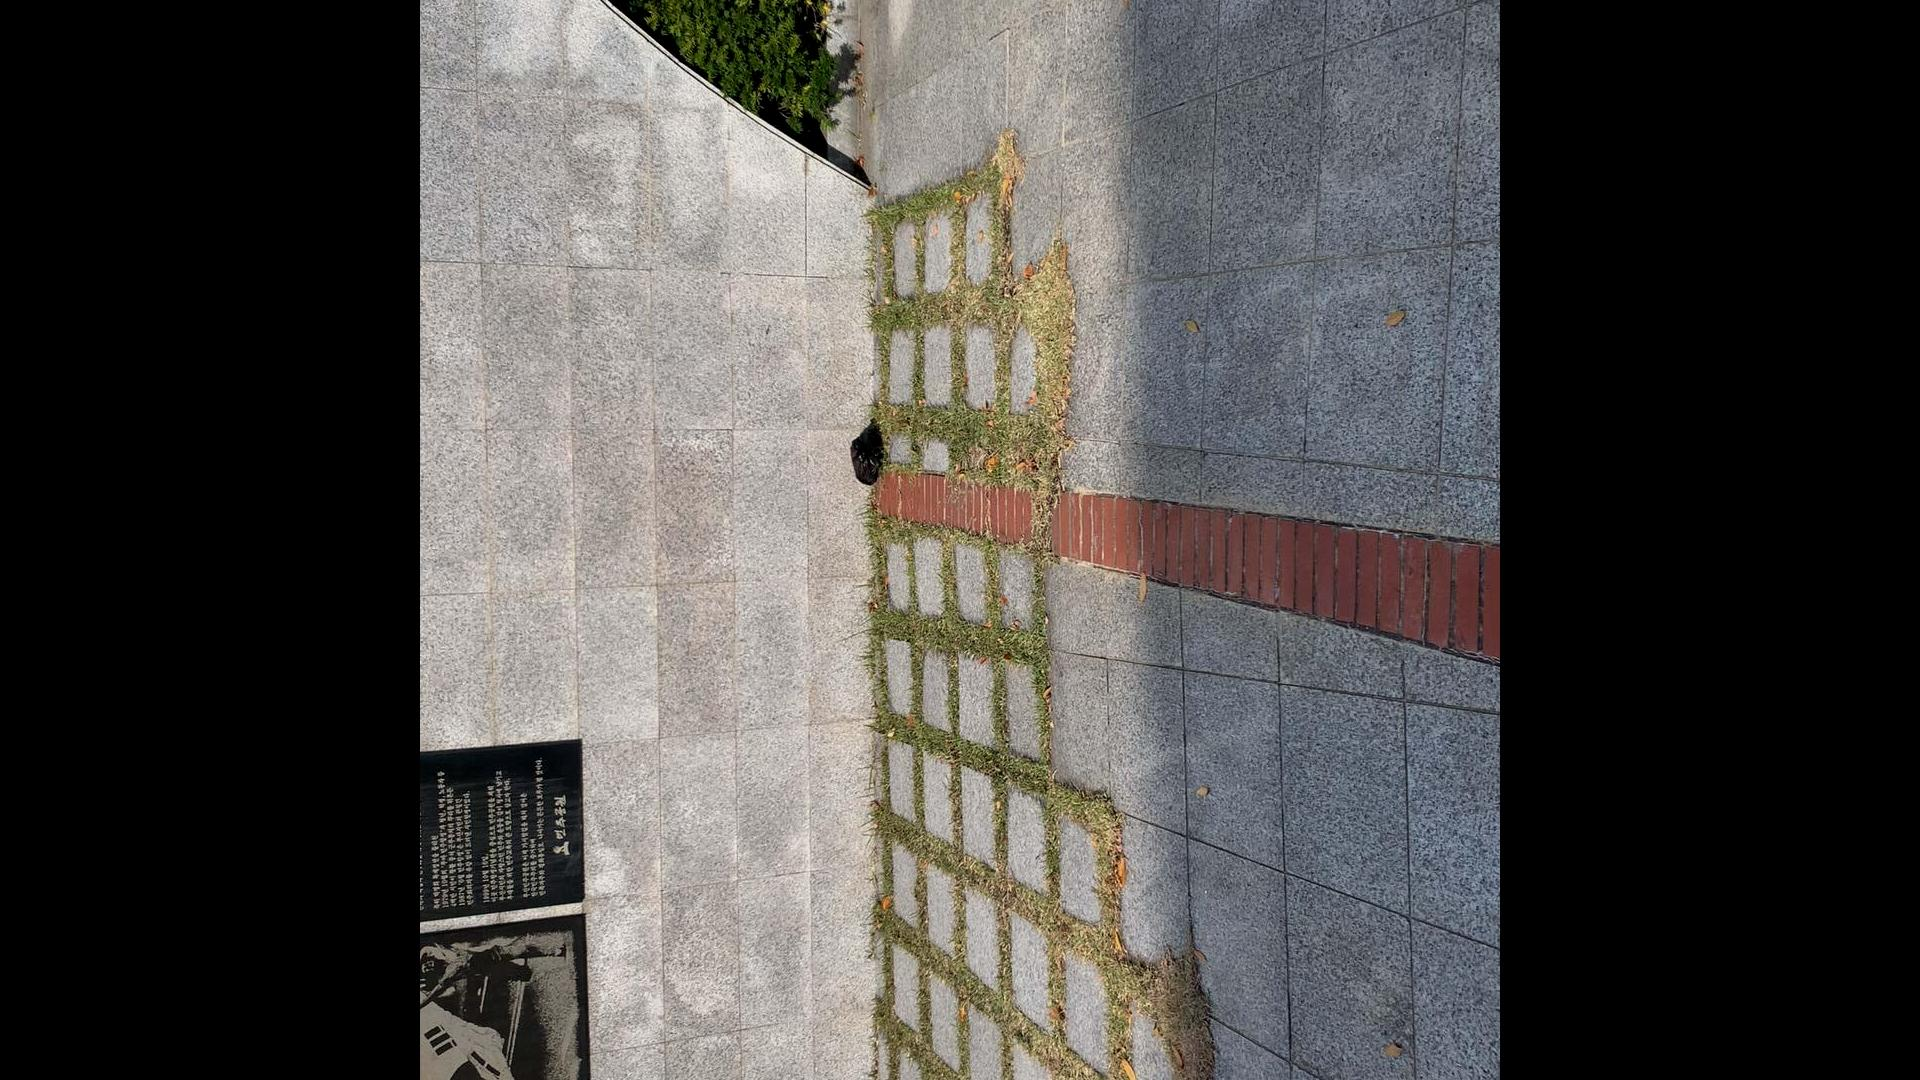black_bag: (846, 414, 885, 488)
